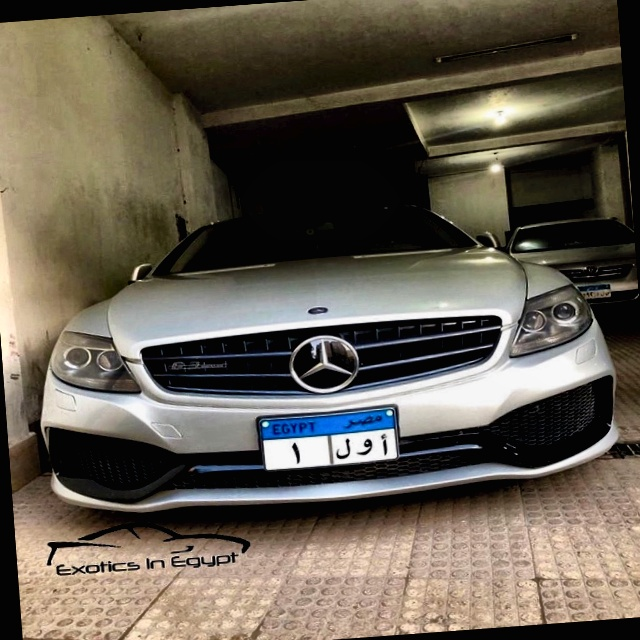License Plate: (256, 405, 402, 474)
